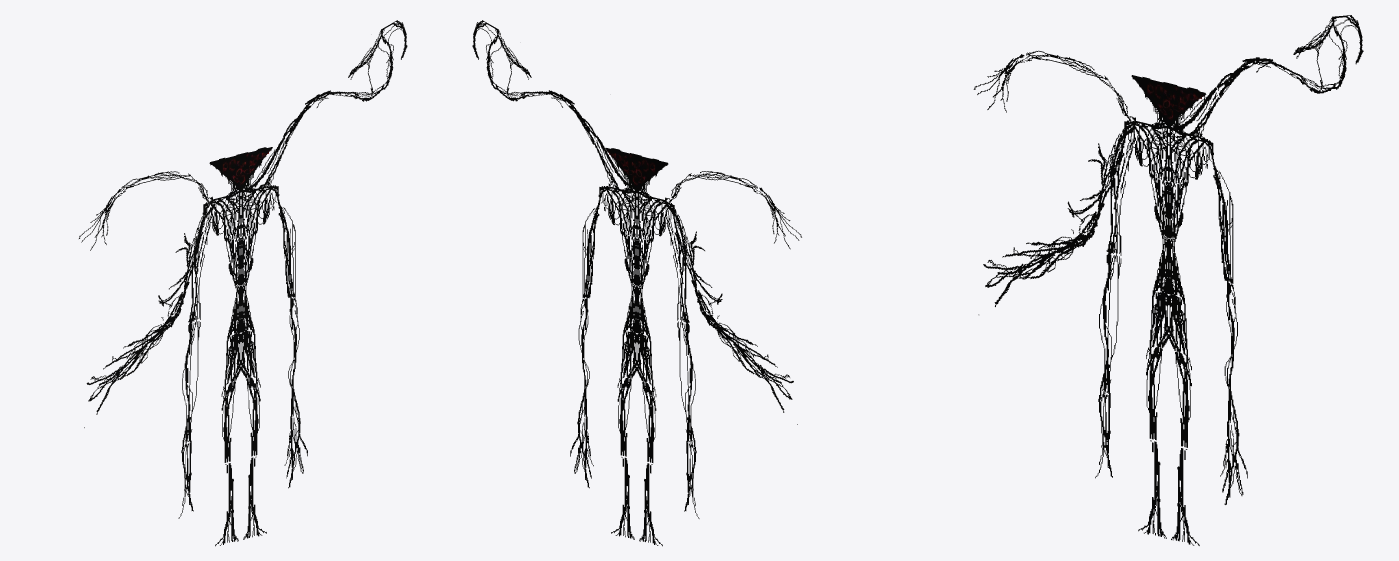
File: the_broken_end.glb
3 renders of one model, left to right at view 1: azimuth 30°, elevation 25°; view 2: azimuth 150°, elevation 25°; view 3: azimuth 330°, elevation 25°, orthographic. The views are drawn at different scales.
Visible parts, largest first — view 1: bone9_0, bone10_4, bone21_23, bone9_3, bone20_22, bone9_1, bone15_30, bone5_7, bone3_12, bone9_2, bone17_35, bone16_39 (+8 smaller); view 2: bone9_0, bone10_4, bone21_23, bone9_3, bone20_22, bone9_1, bone15_30, bone3_12, bone5_7, bone9_2, bone4_6, bone16_39 (+7 smaller); view 3: bone9_0, bone10_4, bone21_23, bone9_3, bone20_22, bone9_1, bone15_30, bone3_12, bone5_7, bone9_2, bone4_6, bone16_39 (+9 smaller).
Part boxes in pixels (bbox=[...]): bone9_0: bbox=[204, 183, 277, 244]; bone10_4: bbox=[209, 147, 272, 191]; bone21_23: bbox=[86, 301, 172, 414]; bone9_3: bbox=[224, 329, 257, 383]; bone20_22: bbox=[158, 203, 215, 324]; bone9_1: bbox=[226, 234, 255, 286]; bone15_30: bbox=[353, 20, 407, 101]; bone5_7: bbox=[182, 321, 200, 444]; bone3_12: bbox=[277, 186, 295, 298]; bone9_2: bbox=[228, 283, 253, 335]; bone17_35: bbox=[246, 376, 260, 456]; bone16_39: bbox=[221, 381, 235, 462]; bone9_0: bbox=[600, 183, 673, 245]; bone10_4: bbox=[605, 148, 668, 192]; bone21_23: bbox=[706, 299, 793, 412]; bone9_3: bbox=[620, 330, 653, 384]; bone20_22: bbox=[667, 205, 722, 322]; bone9_1: bbox=[622, 234, 651, 286]; bone15_30: bbox=[472, 20, 526, 101]; bone3_12: bbox=[582, 187, 600, 299]; bone5_7: bbox=[677, 321, 695, 444]; bone9_2: bbox=[624, 284, 649, 335]; bone4_6: bbox=[673, 205, 689, 323]; bone16_39: bbox=[642, 382, 656, 462]; bone9_0: bbox=[1126, 115, 1211, 185]; bone10_4: bbox=[1131, 75, 1206, 128]; bone21_23: bbox=[983, 209, 1087, 306]; bone9_3: bbox=[1149, 290, 1187, 354]; bone20_22: bbox=[1067, 126, 1134, 244]; bone9_1: bbox=[1151, 177, 1186, 239]; bone15_30: bbox=[1299, 15, 1363, 93]; bone3_12: bbox=[1211, 142, 1233, 283]; bone5_7: bbox=[1099, 253, 1121, 395]; bone9_2: bbox=[1153, 236, 1184, 297]; bone4_6: bbox=[1106, 121, 1125, 255]; bone16_39: bbox=[1146, 345, 1162, 440].
Size of the model in its own units: 19.86 by 22.37 by 0.1876.
1 material, 1 textured.
